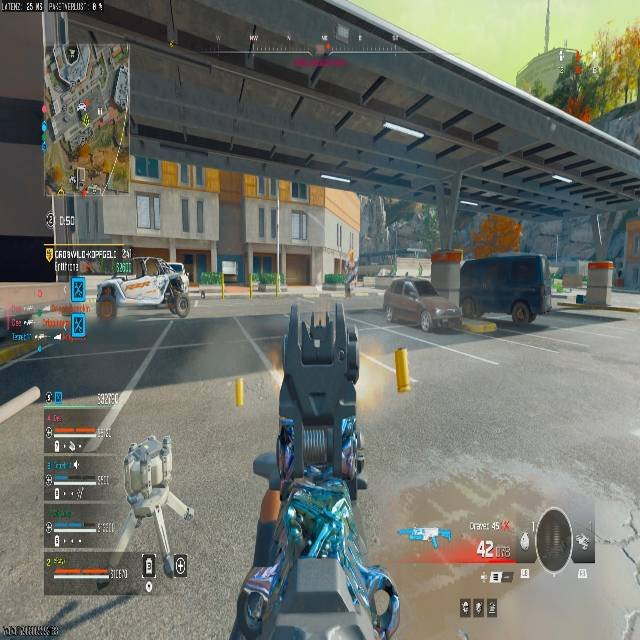player: (156, 259, 189, 318), (347, 263, 363, 295)
